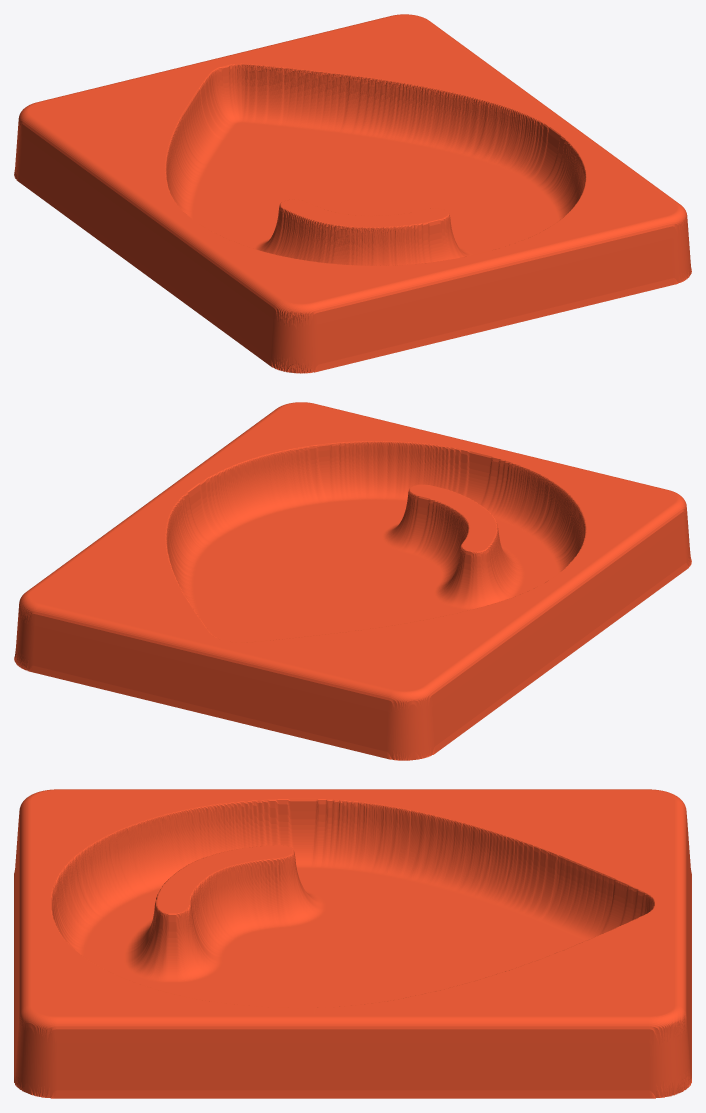
File: mold.glb
The picture shows the model from 3 angles, top to bottom: view 1: azimuth 30°, elevation 25°; view 2: azimuth 150°, elevation 25°; view 3: azimuth 270°, elevation 25°; orthographic projection. The views are drawn at different scales.
Parts seen in each view (by area): view 1: geometry_0; view 2: geometry_0; view 3: geometry_0.
Boxes of the visible parts, bbox=[...] form: geometry_0: bbox=[14, 14, 691, 373]; geometry_0: bbox=[14, 402, 691, 760]; geometry_0: bbox=[14, 789, 691, 1098].
Bounding box in the file's own units: 0.1203 × 0.0175 × 0.1435.
